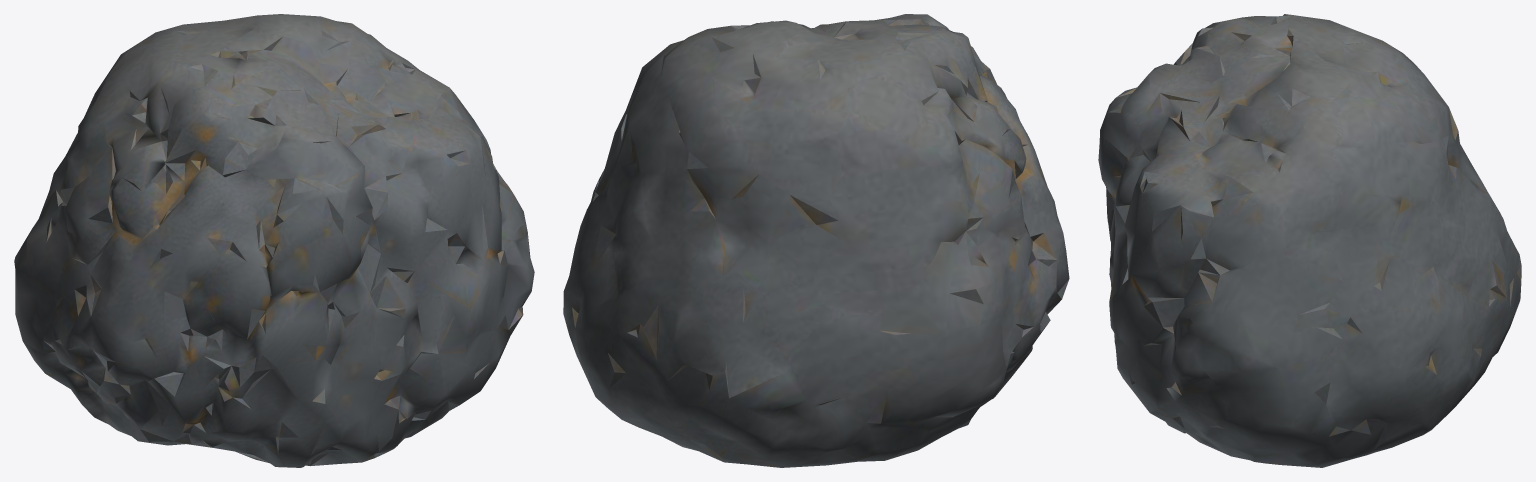
File: boulder_rock.glb
The picture shows the model from 3 angles, left to right: view 1: azimuth 30°, elevation 25°; view 2: azimuth 150°, elevation 25°; view 3: azimuth 270°, elevation 25°; orthographic projection. The views are drawn at different scales.
Visible parts, largest first — view 1: Mesh_0; view 2: Mesh_0; view 3: Mesh_0.
Part boxes in pixels (bbox=[...]): Mesh_0: bbox=[14, 14, 534, 467]; Mesh_0: bbox=[563, 14, 1069, 467]; Mesh_0: bbox=[1098, 14, 1521, 467].
Bounding box in the file's own units: 1.19 × 1 × 1.09.
1 material, 1 textured.
